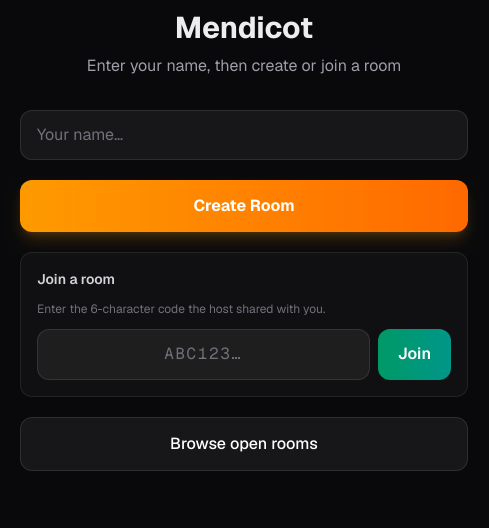
Test: Lobby › requires a name before creating a room
What coordinates should you click on to do the following:
click the button "Create Room"
I would click on:
 (244, 206)
Its box is [20,180,468,232].
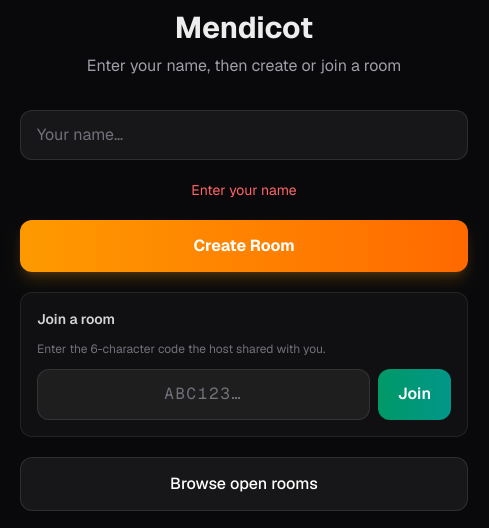
Now the message reads "Enter your name", box [191,181,297,199]
